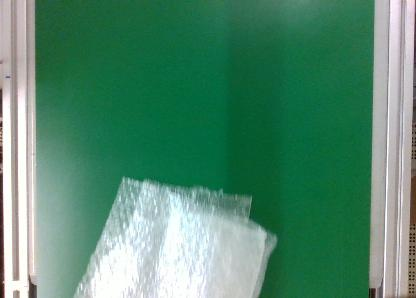Others: (74, 177, 277, 298)
